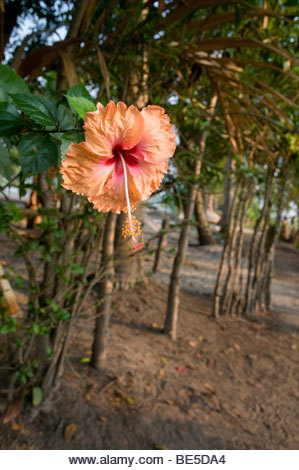Hibiscus: (47, 86, 186, 269)
